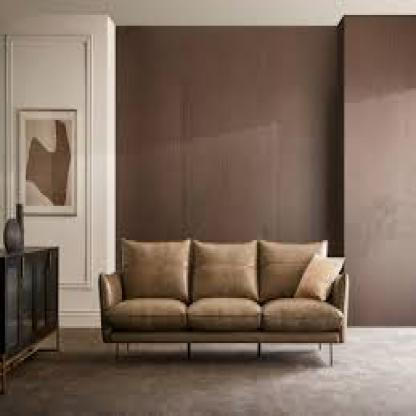sofa: (103, 236, 344, 367)
